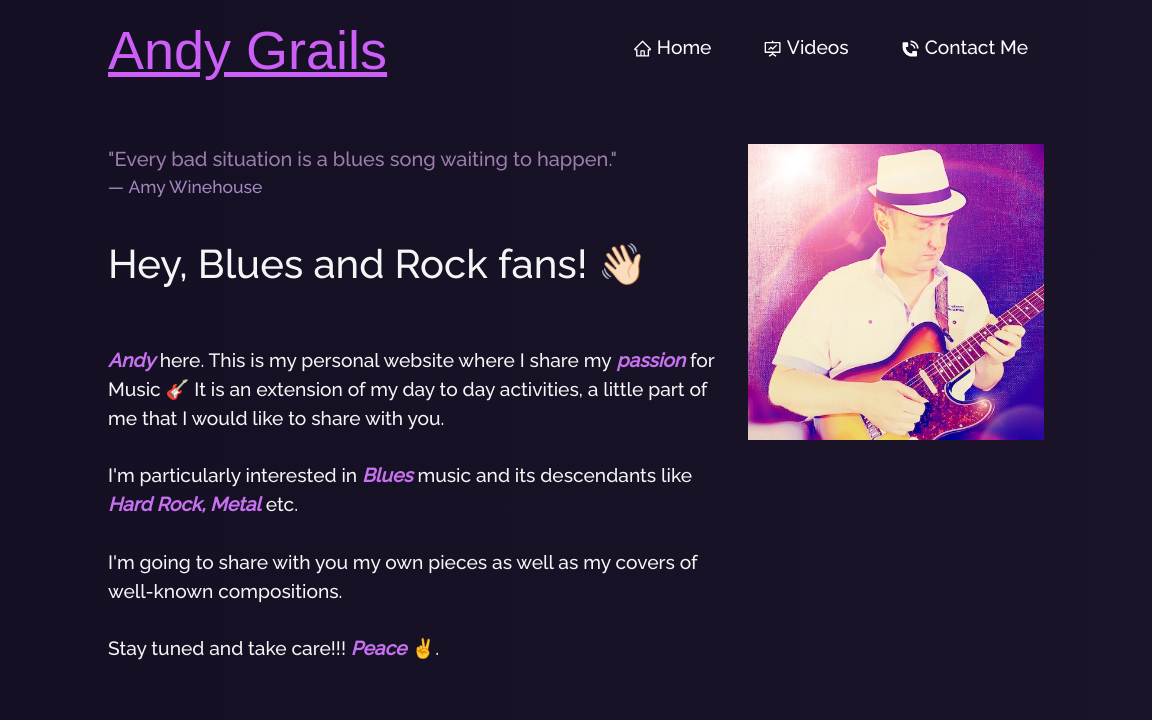
Test: Contact Me Component › should have a proper title
Click the link "Contact Me".
click(964, 47)  # box [901, 36, 1028, 58]
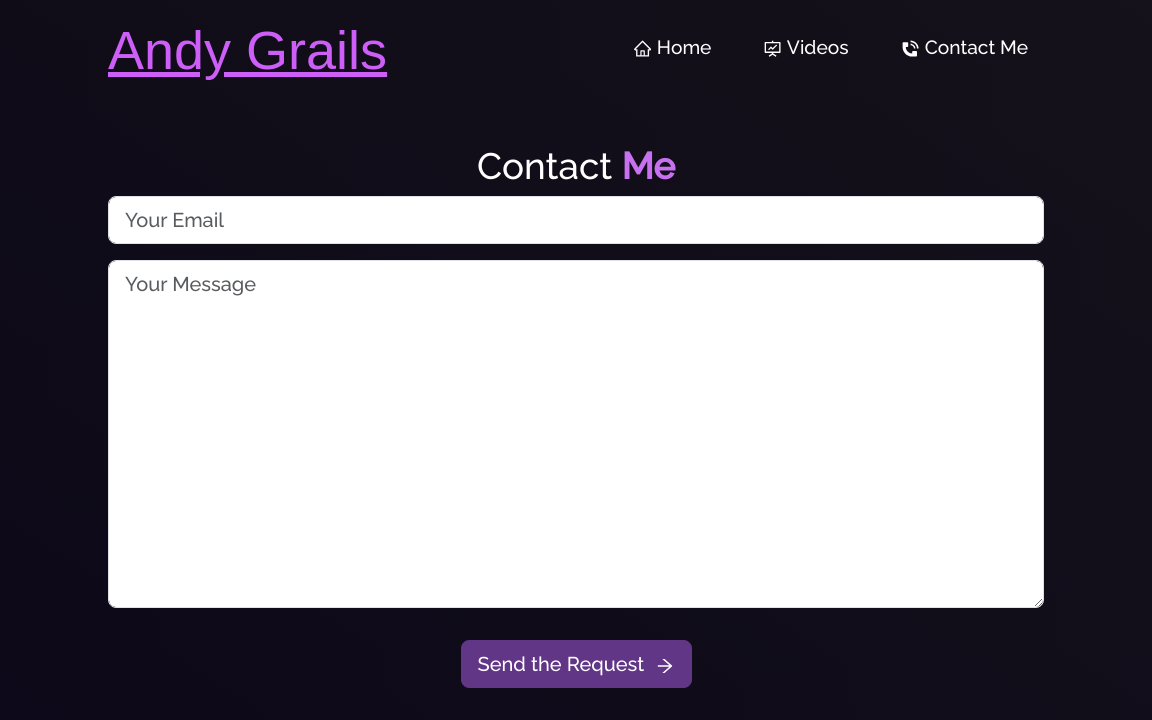
Check: the heading "Contact Me" is shown, box [477, 144, 675, 188]
